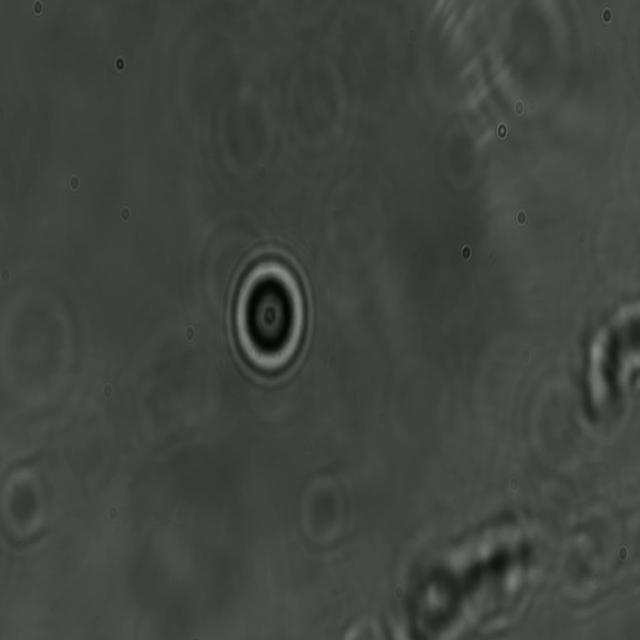LCELL: (220, 238, 318, 392)
